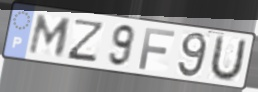9: (176, 31, 210, 79), (107, 23, 138, 69)
F: (137, 26, 178, 72)
M: (27, 13, 74, 58)
U: (207, 34, 249, 83)
Z: (65, 18, 107, 64)
